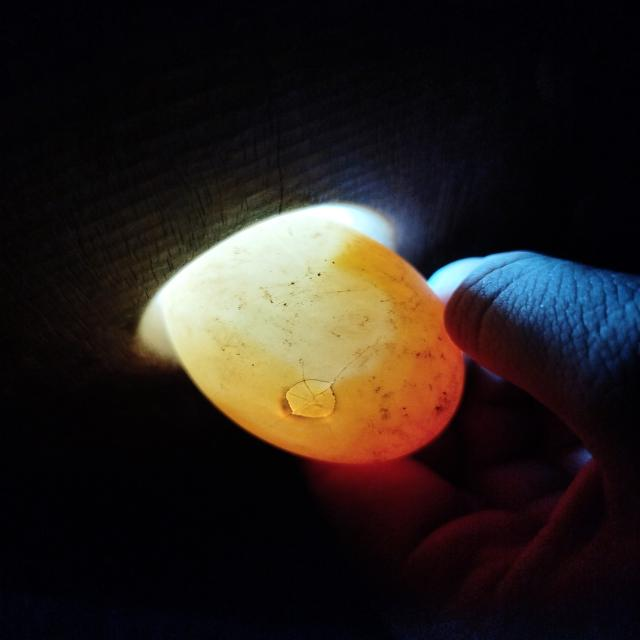Rachadura: (284, 338, 380, 419)
